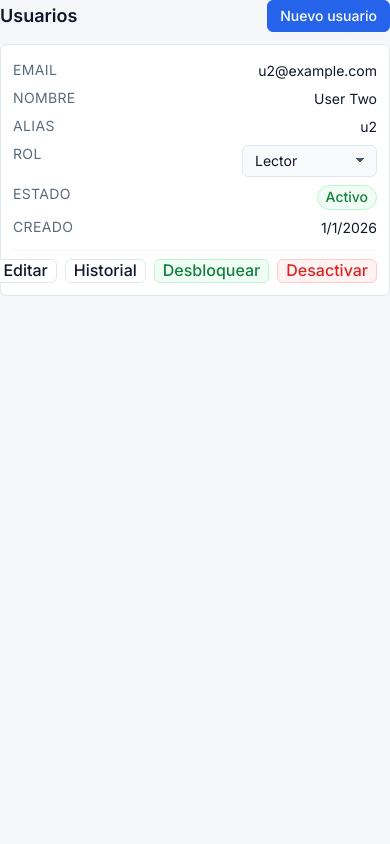
Scenario: UsersPage status toggle › names every affected race when the pre-check finds more than one
Click the button "Desactivar": (327, 271) [277,259,377,283]
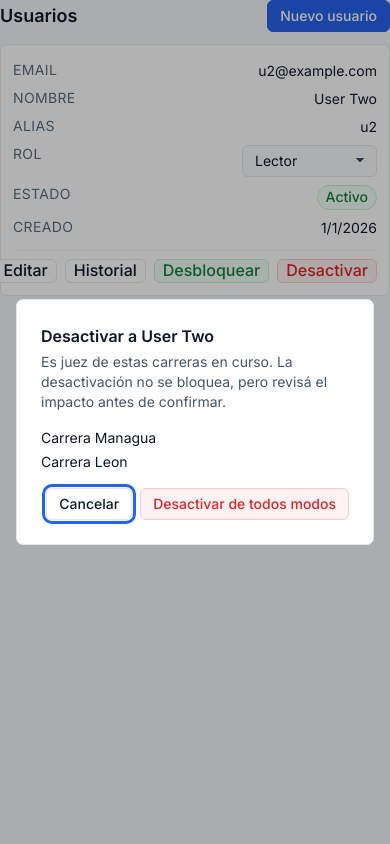
Result: the list item "Carrera Managua" is shown at [41,429,156,446]
Result: the list item "Carrera Leon" is shown at [41,453,128,470]
